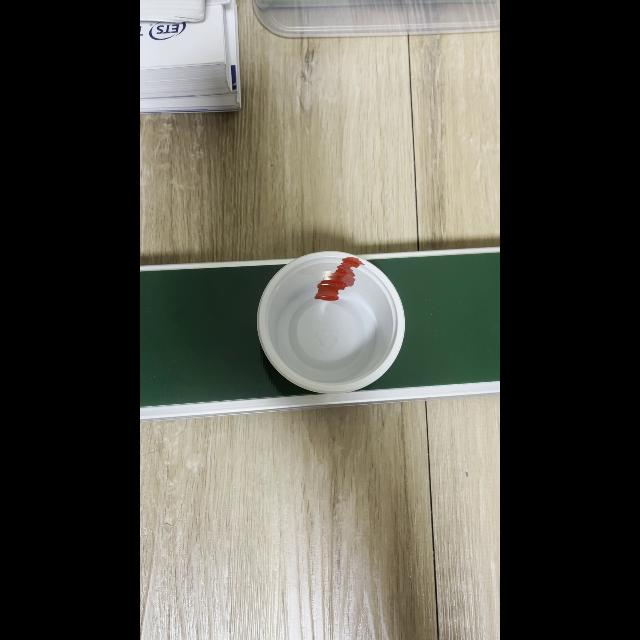dirty: (264, 258, 392, 384)
